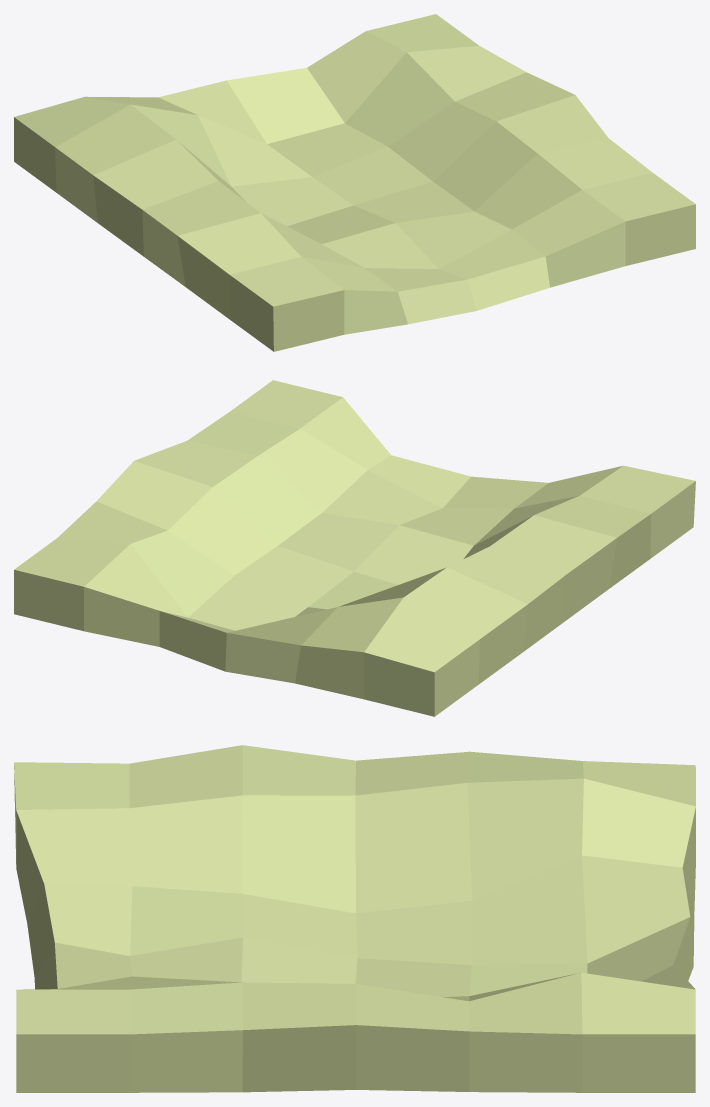
File: Ground_River.fbx
3 views of the same model, one above another, from view 1: azimuth 30°, elevation 25°; view 2: azimuth 150°, elevation 25°; view 3: azimuth 270°, elevation 25° (orthographic). The views are drawn at different scales.
Parts seen in each view (by area): view 1: Plane.001; view 2: Plane.001; view 3: Plane.001.
Part boxes in pixels (left/top/right/bottom): Plane.001: left=14, top=14, right=695, bottom=351; Plane.001: left=14, top=380, right=695, bottom=716; Plane.001: left=14, top=745, right=695, bottom=1092.
Bounding box in the file's own units: 1904 × 410 × 1949.
